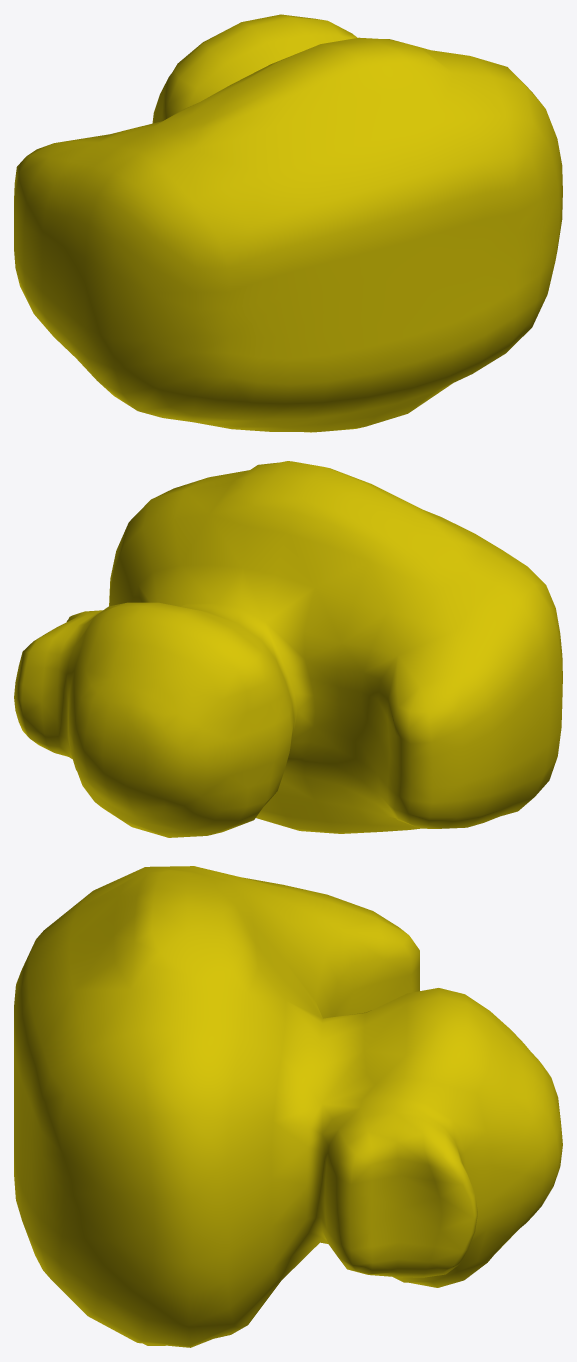
Rendered from duck.dae.
3 views of the same model, one above another, from view 1: azimuth 30°, elevation 25°; view 2: azimuth 150°, elevation 25°; view 3: azimuth 270°, elevation 25° (orthographic). The views are drawn at different scales.
Visible parts, largest first — view 1: Cube; view 2: Cube; view 3: Cube.
Part boxes in pixels (box(x1,y1,x2,y2)): Cube: box(14, 14, 562, 432); Cube: box(14, 461, 562, 837); Cube: box(14, 866, 562, 1347).
Bounding box in the file's own units: 0.2229 × 0.2007 × 0.1693.
